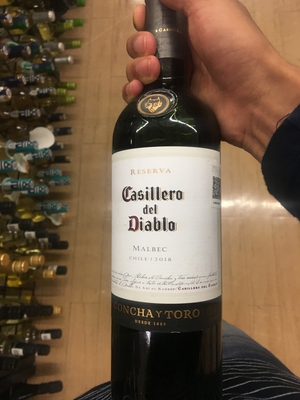casillero del diablo malbec: (102, 5, 237, 400)
